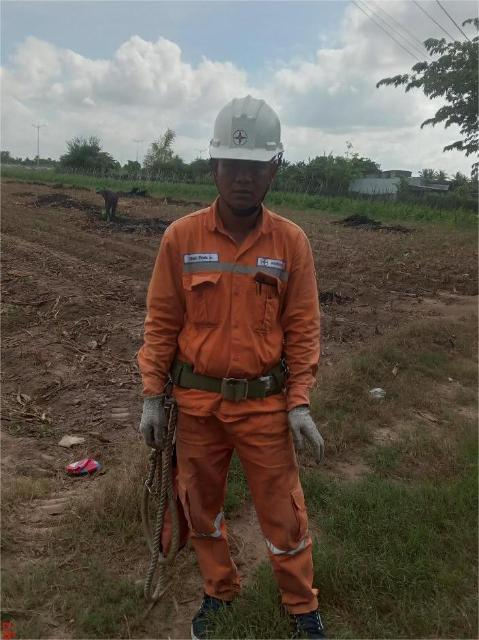gloves: (282, 405, 332, 467), (126, 397, 177, 456)
harness: (161, 342, 310, 424)
helmet: (200, 89, 298, 172)
shoes: (192, 578, 230, 640), (284, 603, 343, 640)
